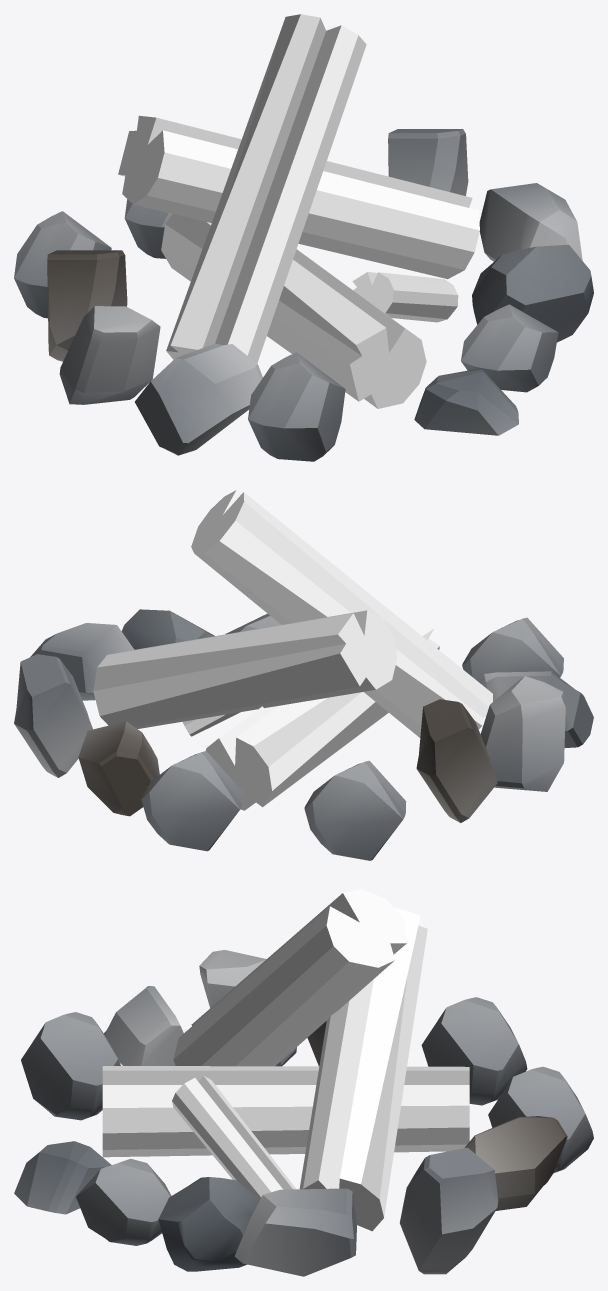
Rendered from fogata2.fbx.
3 renders of one model, top to bottom at view 1: azimuth 30°, elevation 25°; view 2: azimuth 150°, elevation 25°; view 3: azimuth 270°, elevation 25°, orthographic. The views are drawn at different scales.
Visible parts, largest first — view 1: fogata2; view 2: fogata2; view 3: fogata2.
Part boxes in pixels (left/top/right/bottom): fogata2: left=14, top=14, right=593, bottom=461; fogata2: left=14, top=490, right=593, bottom=860; fogata2: left=14, top=889, right=593, bottom=1276.
Bounding box in the file's own units: 517 × 291 × 497.
